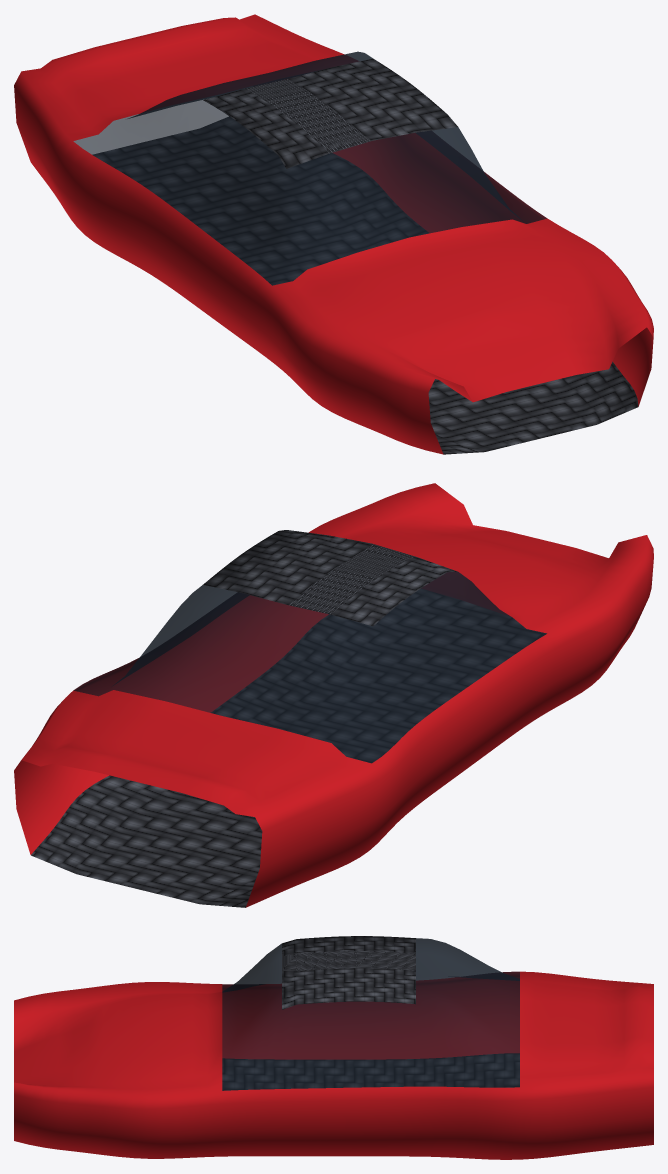
File: bmw_m4_coupe.obj
The picture shows the model from 3 angles, top to bottom: view 1: azimuth 30°, elevation 25°; view 2: azimuth 150°, elevation 25°; view 3: azimuth 270°, elevation 25°; orthographic projection. The views are drawn at different scales.
Parts seen in each view (by area): view 1: BodyPaintShell, CarbonAeroAndRoof, GreenhouseWindows; view 2: BodyPaintShell, CarbonAeroAndRoof, GreenhouseWindows; view 3: BodyPaintShell, GreenhouseWindows, CarbonAeroAndRoof.
Boxes of the visible parts, x1,y1,x2,y2 form: BodyPaintShell: (14, 14, 653, 454); CarbonAeroAndRoof: (93, 58, 638, 454); GreenhouseWindows: (73, 51, 546, 285); BodyPaintShell: (14, 483, 653, 907); CarbonAeroAndRoof: (31, 530, 546, 907); GreenhouseWindows: (73, 571, 546, 763); BodyPaintShell: (14, 971, 653, 1159); GreenhouseWindows: (222, 938, 519, 1090); CarbonAeroAndRoof: (222, 936, 519, 1090).
Size of the model in its own units: 2.18 by 1.21 by 4.79.
Materials: 3 (1 with a texture image).
